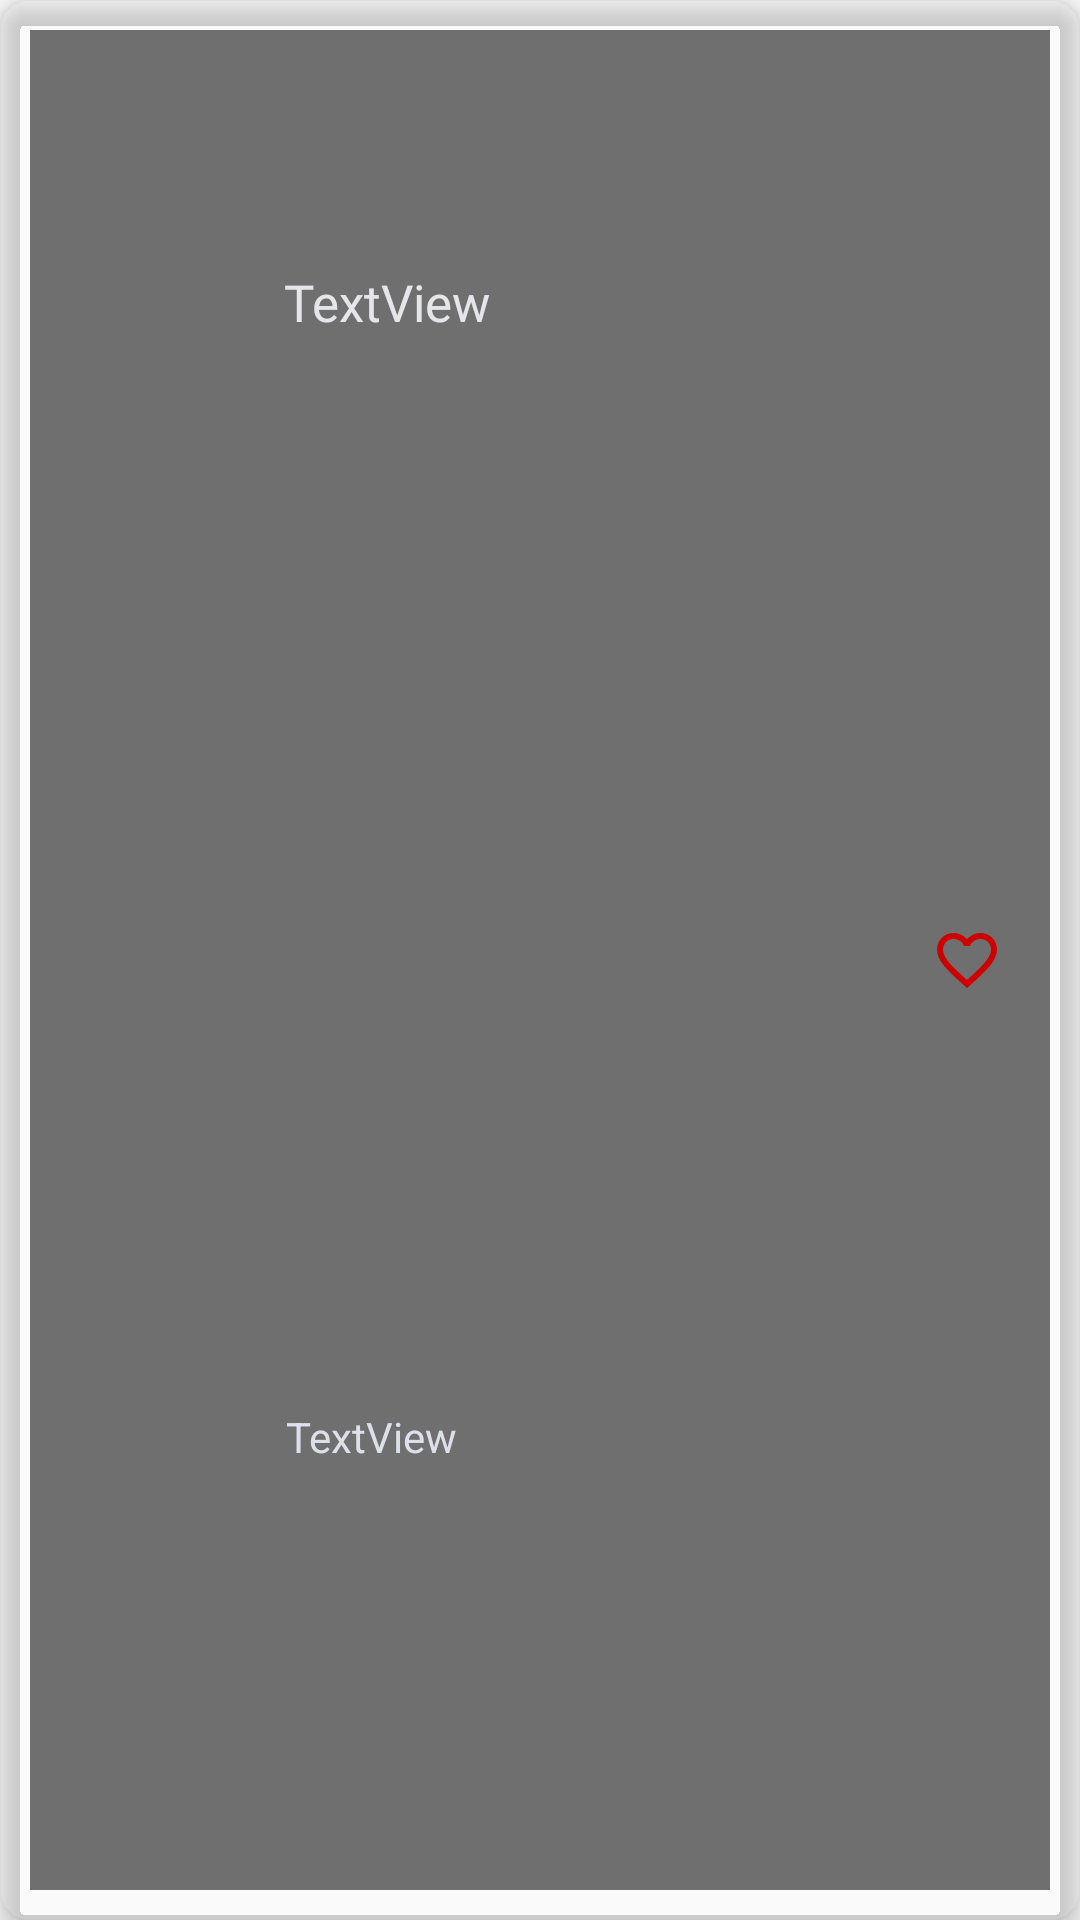

Point at icon controls on the screen. Image size 1080x1920, points as [x,y].
favorite border: [967,960]
